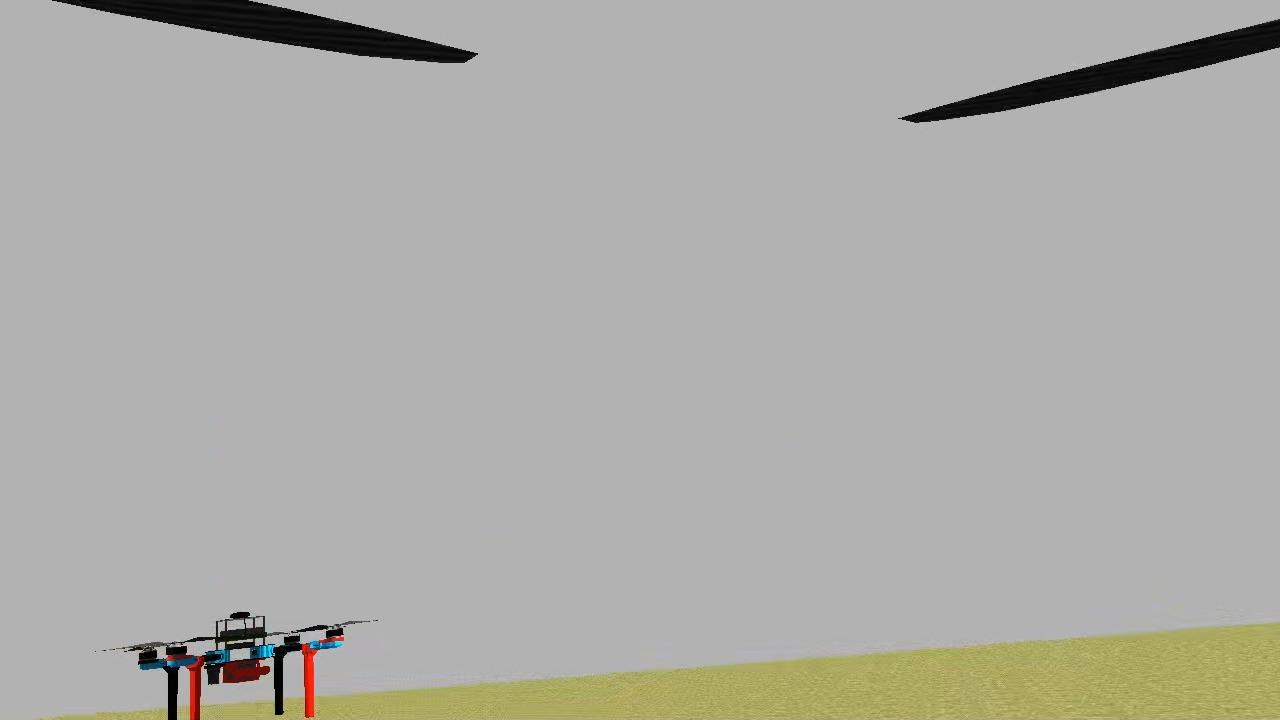UAV: (132, 604, 352, 720)
